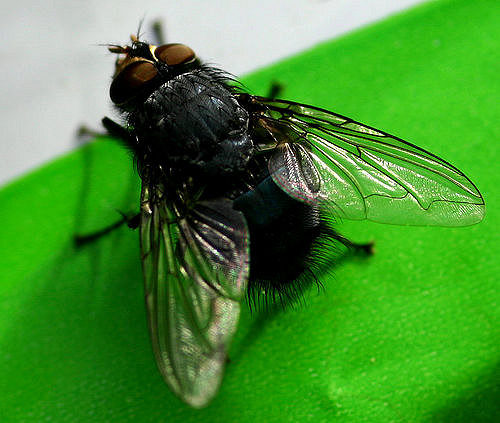green bottles fly: (47, 5, 484, 415)
